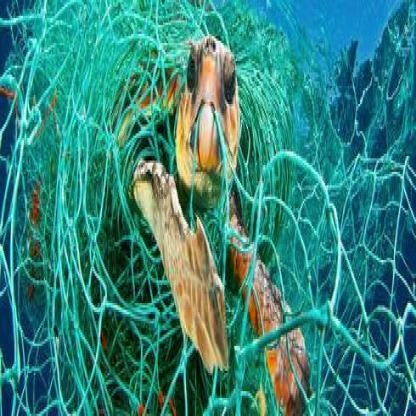net: (5, 2, 416, 416)
